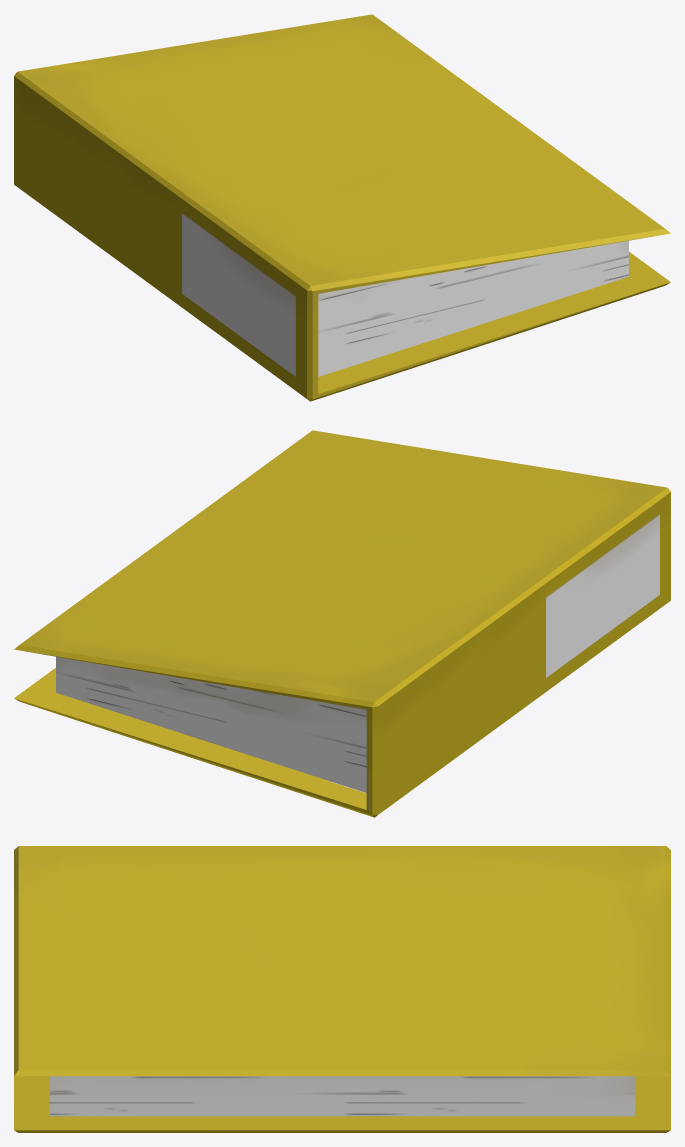
The model's file is DocFolder_001.fbx.
3 renders of one model, top to bottom at view 1: azimuth 30°, elevation 25°; view 2: azimuth 150°, elevation 25°; view 3: azimuth 270°, elevation 25°, orthographic. The views are drawn at different scales.
Parts seen in each view (by area): view 1: DocFolder_001; view 2: DocFolder_001; view 3: DocFolder_001.
Part boxes in pixels (x1,y1,x2,y2): DocFolder_001: (14, 14, 670, 401); DocFolder_001: (14, 430, 670, 817); DocFolder_001: (14, 846, 670, 1132).
Size of the model in its own units: 25.83 by 7.88 by 36.71.
Materials: 1 (1 with a texture image).
